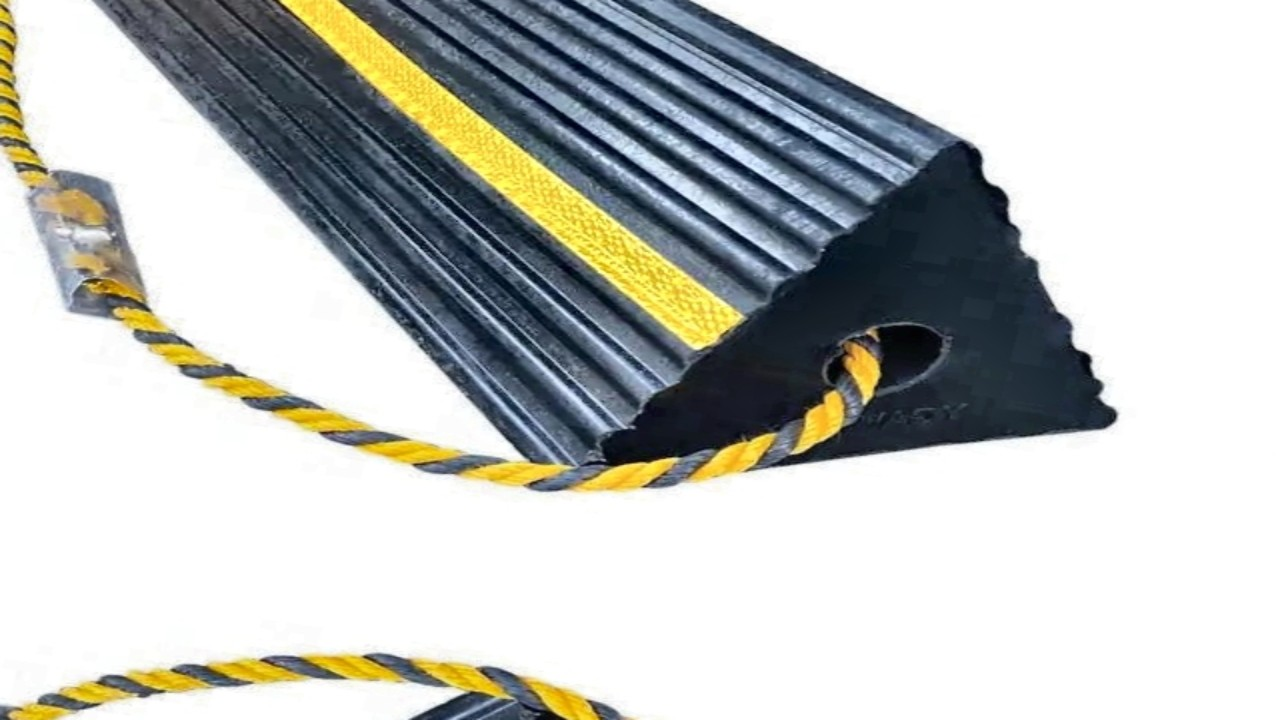chock: (0, 0, 1258, 570)
